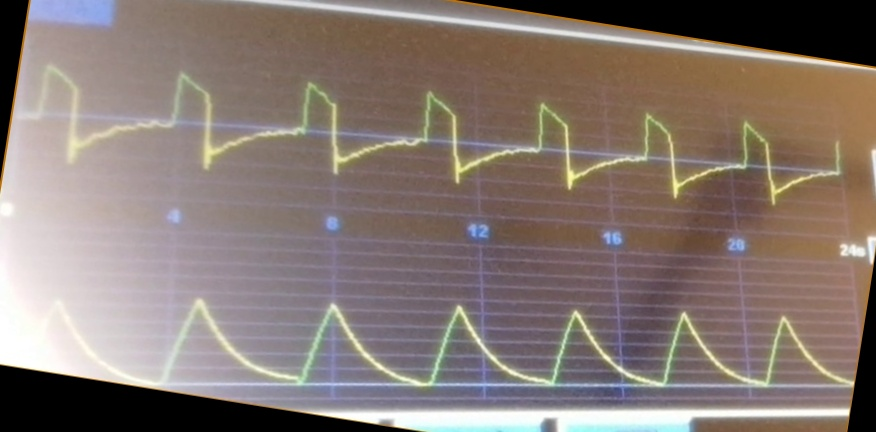Accumulation Flow: (20, 63, 811, 204)
Volume: (32, 291, 848, 391)
